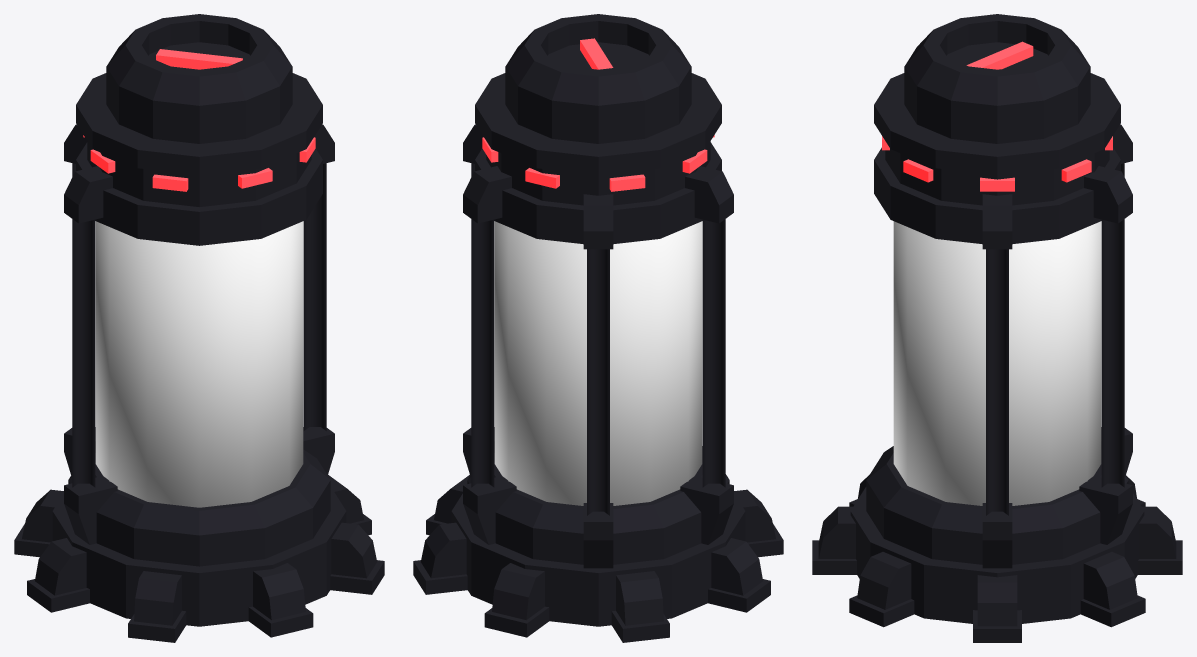
The model's file is Assets - SCI-FI Container 1.0.fbx.
The picture shows the model from 3 angles, left to right: view 1: azimuth 30°, elevation 25°; view 2: azimuth 150°, elevation 25°; view 3: azimuth 270°, elevation 25°; orthographic projection.
Parts seen in each view (by area): view 1: Sci-fi Container_Glass, Sci-fi Container_Top, Sci-fi Container_Bot, Sci-fi Container_Body_Pilar.001, Sci-fi Container_Body_Pilar, Sci-fi Container_Bot_Side1, Sci-fi Container_Bot_Side1.006, Sci-fi Container_Bot_Side1.007, Sci-fi Container_Bot_Side1.001, Sci-fi Container_Bot_Side1.005, Sci-fi Container_Top_Light, Sci-fi Container_Body_Pilar.003 (+2 smaller); view 2: Sci-fi Container_Glass, Sci-fi Container_Top, Sci-fi Container_Bot, Sci-fi Container_Body_Pilar.001, Sci-fi Container_Body_Pilar.002, Sci-fi Container_Body_Pilar.003, Sci-fi Container_Bot_Side1.004, Sci-fi Container_Bot_Side1.006, Sci-fi Container_Bot_Side1.005, Sci-fi Container_Bot_Side1.003, Sci-fi Container_Bot_Side1.007, Sci-fi Container_Body_Pilar (+3 smaller); view 3: Sci-fi Container_Glass, Sci-fi Container_Top, Sci-fi Container_Bot, Sci-fi Container_Body_Pilar.002, Sci-fi Container_Body_Pilar, Sci-fi Container_Bot_Side1.001, Sci-fi Container_Bot_Side1.003, Sci-fi Container_Bot_Side1.002, Sci-fi Container_Bot_Side1, Sci-fi Container_Bot_Side1.004, Sci-fi Container_Top_Light, Sci-fi Container_Body_Pilar.003.
Boxes of the visible parts, <box> form: Sci-fi Container_Glass: <box>95,221,303,507</box>; Sci-fi Container_Top: <box>76,14,322,245</box>; Sci-fi Container_Bot: <box>52,449,346,626</box>; Sci-fi Container_Body_Pilar.001: <box>64,166,117,544</box>; Sci-fi Container_Body_Pilar: <box>303,124,334,474</box>; Sci-fi Container_Bot_Side1: <box>248,563,313,637</box>; Sci-fi Container_Bot_Side1.006: <box>27,538,89,612</box>; Sci-fi Container_Bot_Side1.007: <box>128,571,186,642</box>; Sci-fi Container_Bot_Side1.001: <box>330,522,384,594</box>; Sci-fi Container_Bot_Side1.005: <box>14,489,63,557</box>; Sci-fi Container_Top_Light: <box>156,49,242,69</box>; Sci-fi Container_Body_Pilar.003: <box>64,124,95,474</box>; Sci-fi Container_Glass: <box>494,221,702,505</box>; Sci-fi Container_Top: <box>475,14,721,244</box>; Sci-fi Container_Bot: <box>451,446,745,626</box>; Sci-fi Container_Body_Pilar.001: <box>680,166,733,544</box>; Sci-fi Container_Body_Pilar.002: <box>463,166,516,544</box>; Sci-fi Container_Body_Pilar.003: <box>583,194,613,568</box>; Sci-fi Container_Bot_Side1.004: <box>484,563,549,637</box>; Sci-fi Container_Bot_Side1.006: <box>708,538,770,612</box>; Sci-fi Container_Bot_Side1.005: <box>611,571,669,642</box>; Sci-fi Container_Bot_Side1.003: <box>413,522,467,594</box>; Sci-fi Container_Bot_Side1.007: <box>734,489,783,557</box>; Sci-fi Container_Body_Pilar: <box>463,124,494,474</box>; Sci-fi Container_Glass: <box>893,221,1101,505</box>; Sci-fi Container_Top: <box>874,14,1120,244</box>; Sci-fi Container_Bot: <box>850,446,1144,623</box>; Sci-fi Container_Body_Pilar.002: <box>1079,166,1132,544</box>; Sci-fi Container_Body_Pilar: <box>982,194,1012,568</box>; Sci-fi Container_Bot_Side1.001: <box>849,552,914,627</box>; Sci-fi Container_Bot_Side1.003: <box>1080,552,1145,627</box>; Sci-fi Container_Bot_Side1.002: <box>973,575,1021,642</box>; Sci-fi Container_Bot_Side1: <box>812,506,856,574</box>; Sci-fi Container_Bot_Side1.004: <box>1138,506,1182,574</box>; Sci-fi Container_Top_Light: <box>966,41,1033,69</box>; Sci-fi Container_Body_Pilar.003: <box>1101,124,1132,474</box>.
Bounding box in the file's own units: 744 × 744 × 1151.
